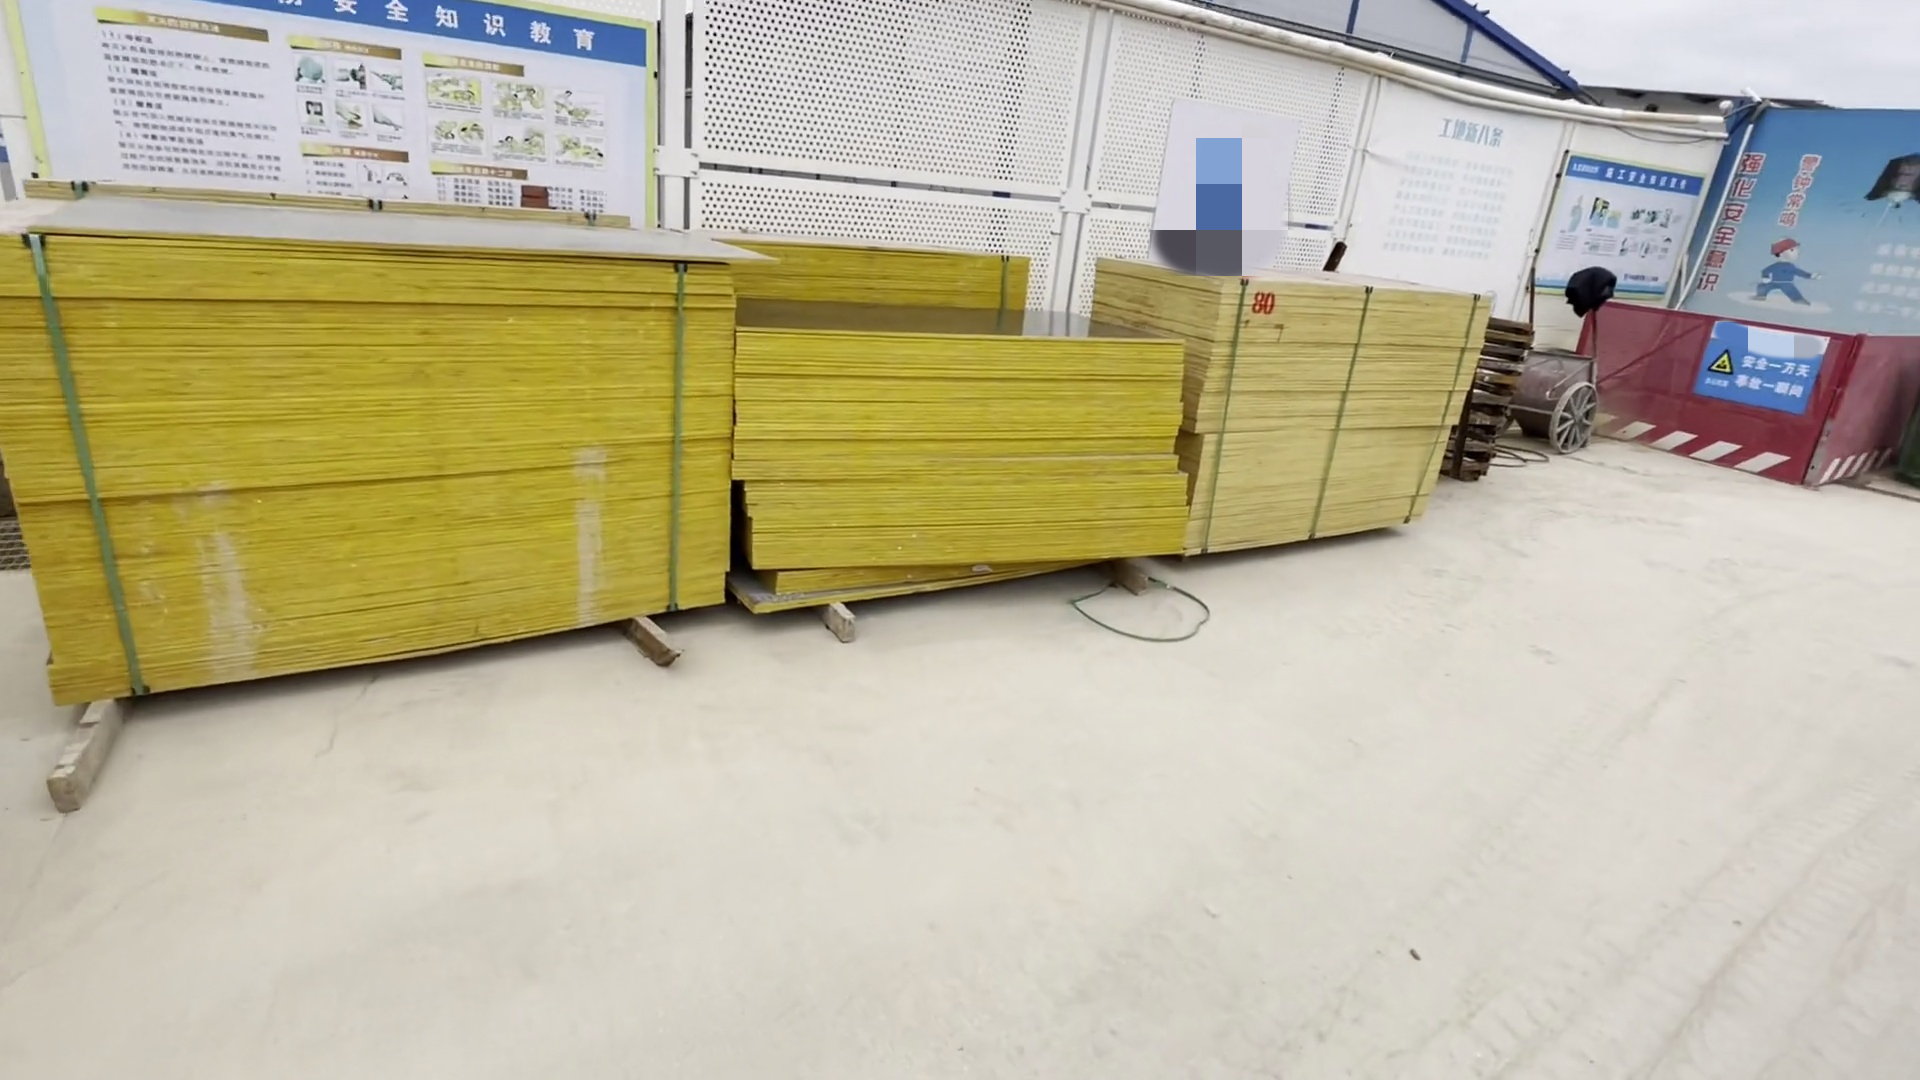board: (4, 196, 1484, 666)
handcart: (1510, 255, 1604, 472)
